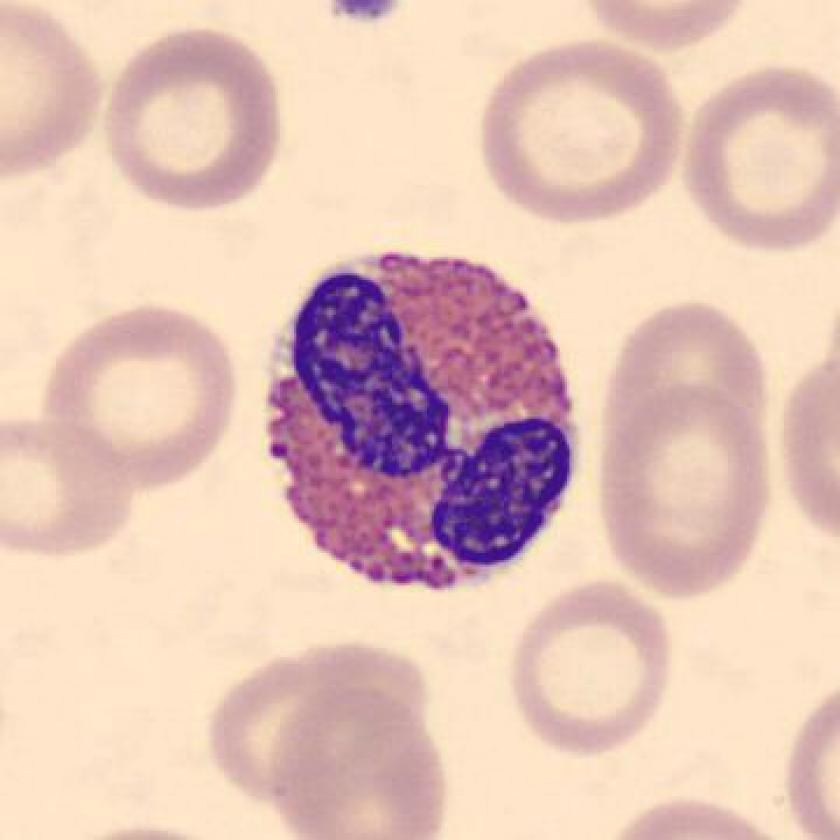eosinophil: (256, 240, 592, 608)
